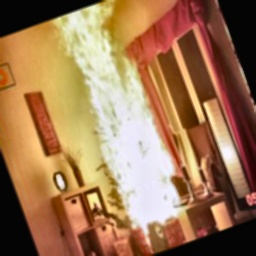fire: (38, 0, 208, 247)
